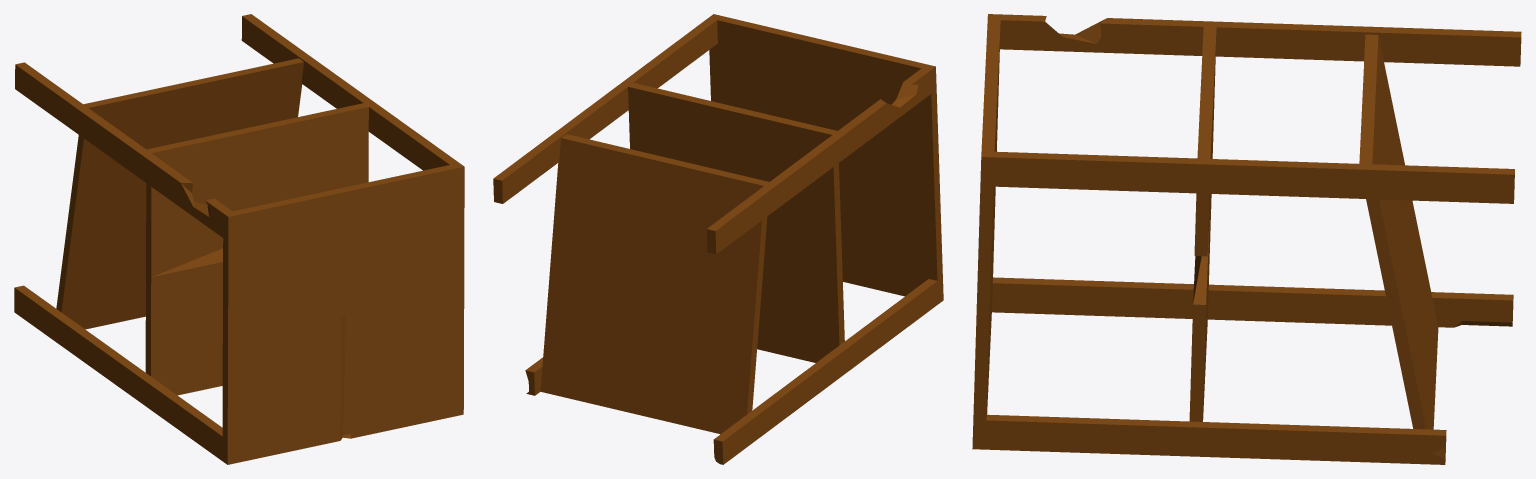
Rendered from тумбабитая.fbx.
3 renders of one model, left to right at view 1: azimuth 30°, elevation 25°; view 2: azimuth 150°, elevation 25°; view 3: azimuth 270°, elevation 25°, orthographic. The views are drawn at different scales.
Visible parts, largest first — view 1: Cube.013; view 2: Cube.013; view 3: Cube.013.
Boxes of the visible parts, <box> form: Cube.013: <box>14,14,464,464</box>; Cube.013: <box>493,14,943,464</box>; Cube.013: <box>972,14,1521,464</box>.
Bounding box in the file's own units: 52.58 × 52.89 × 84.33.
